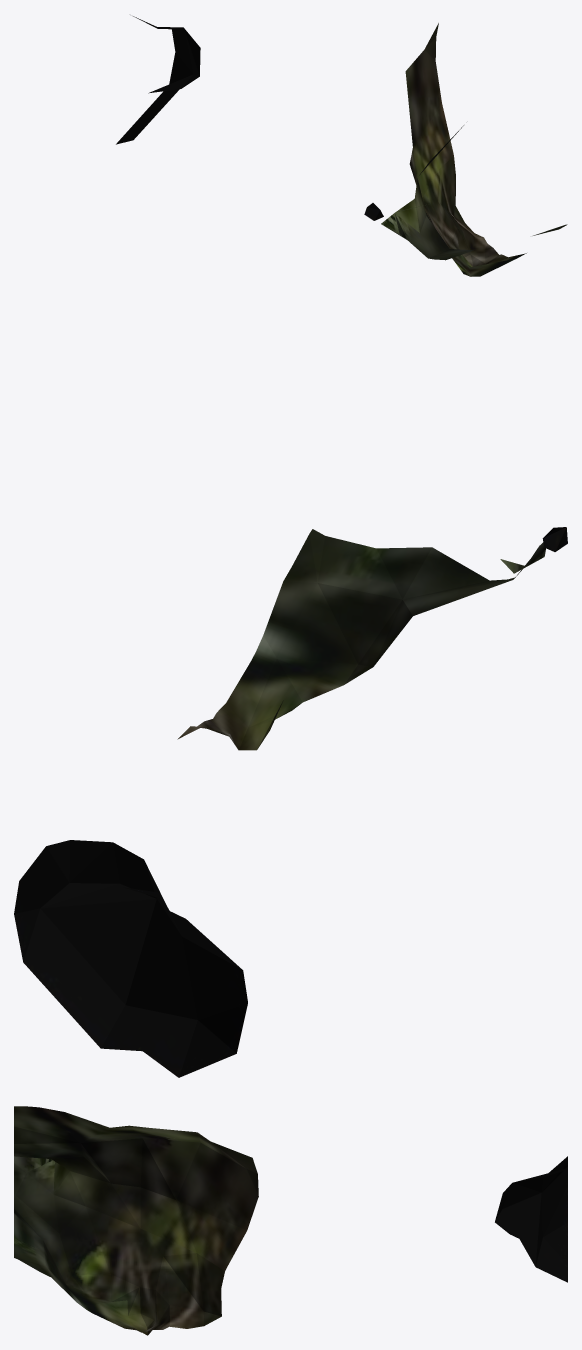
3 renders of one model, top to bottom at view 1: azimuth 30°, elevation 25°; view 2: azimuth 150°, elevation 25°; view 3: azimuth 270°, elevation 25°, orthographic. The views are drawn at different scales.
Size of the model in its own units: 0.4116 by 0.4111 by 0.8374.
1 material, 1 textured.
